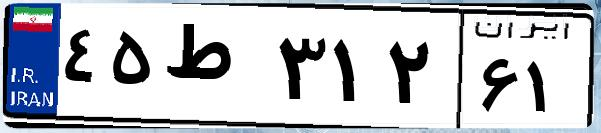1: (330, 28, 385, 110), (525, 38, 570, 115)
2: (385, 28, 445, 110)
3: (270, 28, 330, 110)
4: (57, 26, 110, 100)
5: (110, 28, 158, 98)
6: (475, 38, 525, 113)
ط: (158, 20, 270, 120)
